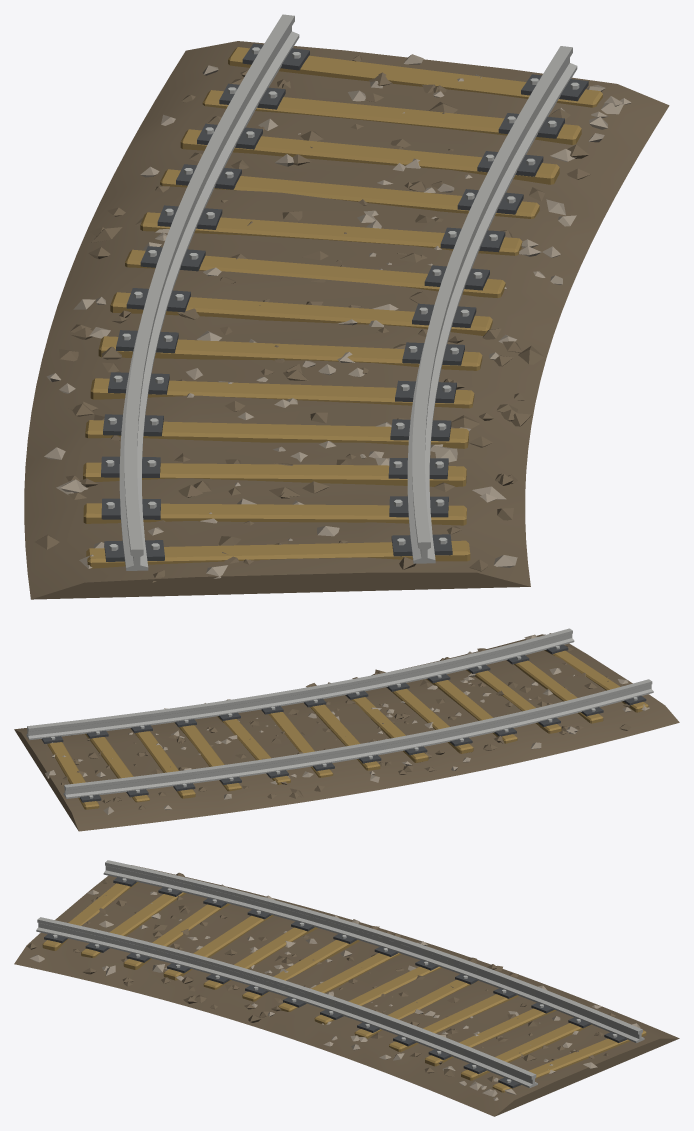
The model's file is curved-rail-b-ne.glb.
3 renders of one model, top to bottom at view 1: azimuth 30°, elevation 25°; view 2: azimuth 150°, elevation 25°; view 3: azimuth 270°, elevation 25°, orthographic. The views are drawn at different scales.
Parts seen in each view (by area): view 1: body; view 2: body; view 3: body.
Part boxes in pixels (x1,y1,x2,y2): body: (24,14,669,599); body: (14,628,679,831); body: (14,860,679,1116).
Bounding box in the file's own units: 4.63 × 0.222 × 5.18.
